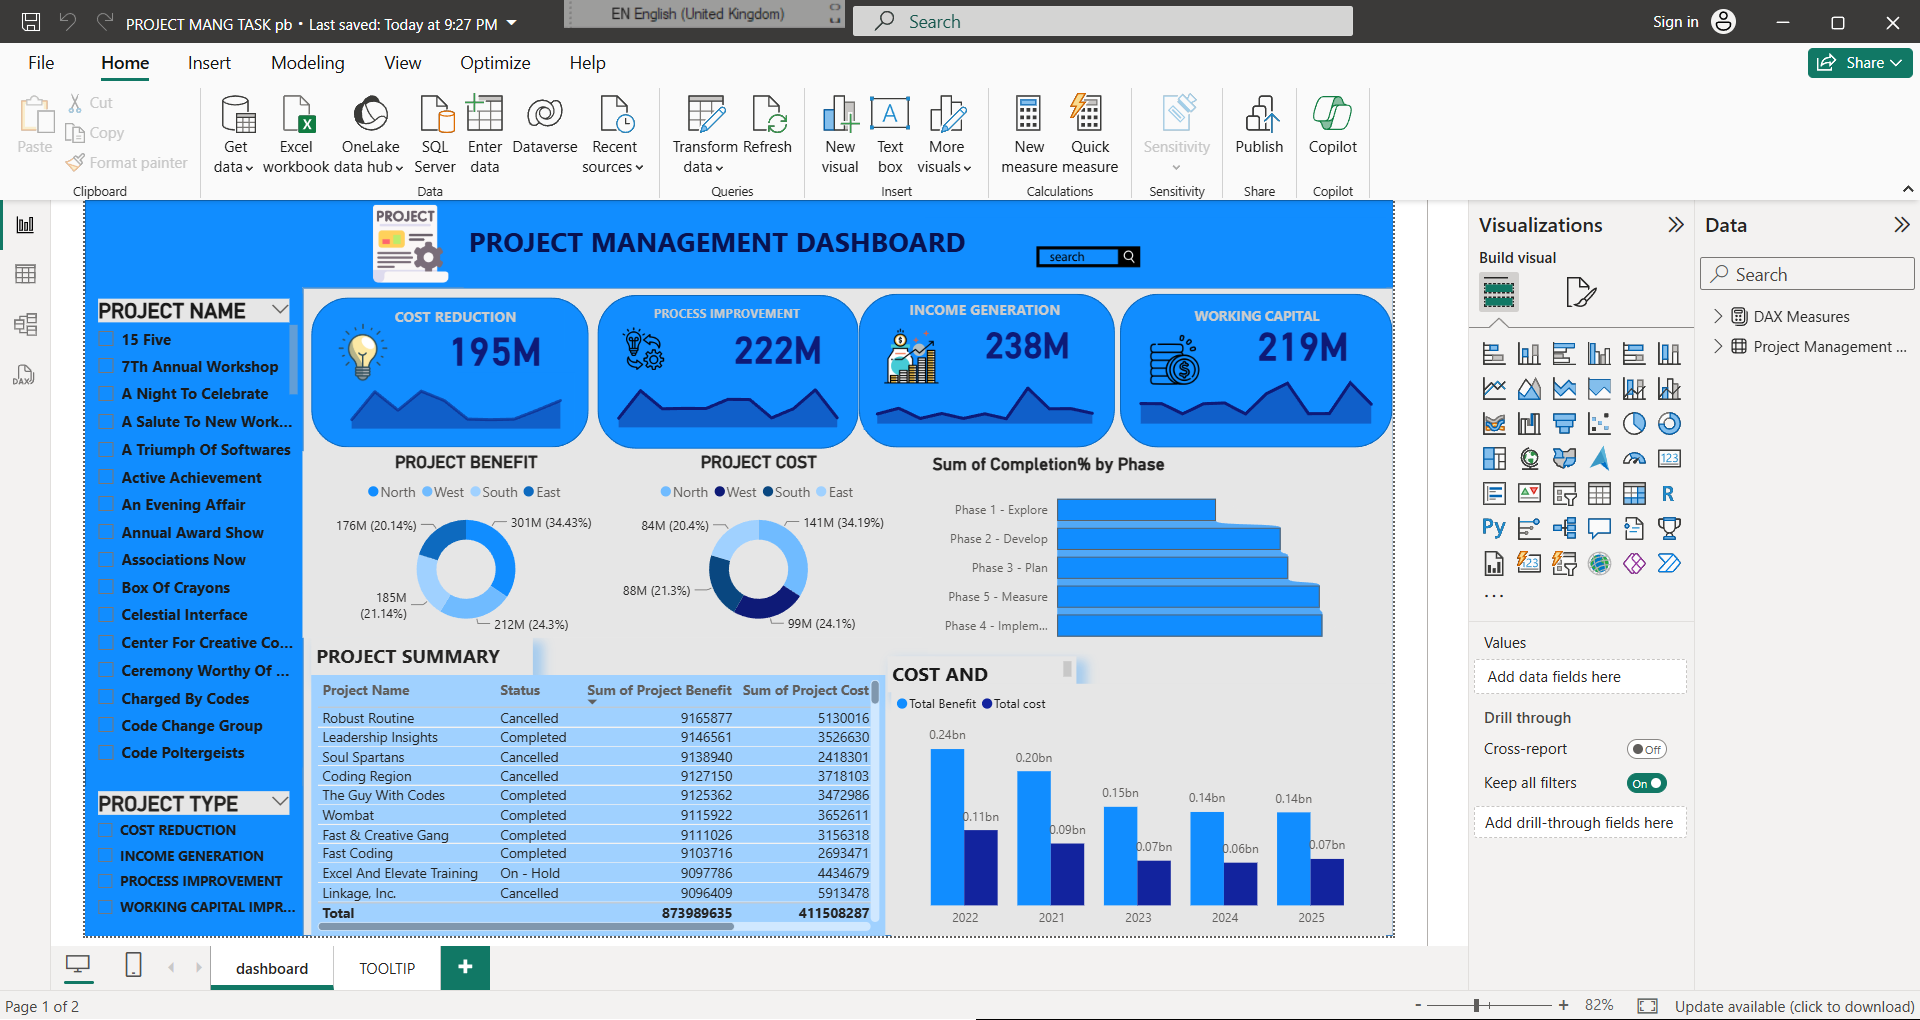

The dashboard page shown, as its layout file describes it:
{"tool":"powerbi","page":{"name":"dashboard","canvas":[1280,720],"ordinal":0},"visuals":[{"type":"shape","box":[0,0,1280.3,720.2],"z":0},{"type":"shape","box":[479.4,137,259.2,146.7],"z":1000},{"type":"textbox","box":[501.4,145.5,214,46.5],"z":2000},{"type":"card","fields":{"Values":["DAX Measures.Cost Reductions"]},"box":[556.4,145.5,182.2,94.2],"z":3000},{"type":"lineChart","fields":{"Category":["Project Management Dataset.Start Date.Variation.Date Hierarchy.Month"],"Y":["DAX Measures.Cost Reductions"]},"box":[492.8,215.2,232.3,61.1],"z":4000},{"type":"image","box":[492.8,174.9,55,62.4],"z":5000},{"type":"shape","box":[0,0,1280.3,720.2],"z":6000},{"type":"shape","box":[212.8,85.6,1067.5,634.7],"z":7000},{"type":"shape","box":[221.3,95.4,271.5,146.7],"z":8000},{"type":"textbox","box":[255.6,99,214,46.5],"z":9000},{"type":"card","fields":{"Values":["DAX Measures.Cost Reductions"]},"box":[303.3,108.8,195.7,94.2],"z":10000},{"type":"lineChart","fields":{"Category":["Project Management Dataset.Start Date.Variation.Date Hierarchy.Month"],"Y":["DAX Measures.Cost Reductions"]},"box":[247,168.8,232.3,61.1],"z":11000},{"type":"image","box":[233.6,113.7,77,70.9],"z":12000},{"type":"textbox","box":[370.5,17.1,902.5,68.5],"z":13000},{"type":"image","box":[272.7,0,91.7,85.6],"z":14000},{"type":"image","box":[810.7,0,342.4,111.3],"z":15000},{"type":"shape","box":[756.9,91.7,250.7,150.4],"z":16000},{"type":"card","fields":{"Values":["DAX Measures.Income Generation"]},"box":[845,113.7,154.1,73.4],"z":17000},{"type":"lineChart","fields":{"Category":["Project Management Dataset.Start Date.Variation.Date Hierarchy.Month"],"Y":["DAX Measures.Income Generation"]},"box":[761.8,160.2,237.2,64.8],"z":18000},{"type":"image","box":[754.5,121.1,107.6,63.6],"z":19000},{"type":"shape","box":[1012.5,91.7,266.6,150.4],"z":20000},{"type":"shape","box":[501.4,92.9,255.6,150.4],"z":21000},{"type":"textbox","box":[791.2,92.9,178.5,31.8],"z":22000},{"type":"textbox","box":[533.2,96.6,193.2,34.2],"z":23000},{"type":"image","box":[501.4,119.8,89.3,51.4],"z":24000},{"type":"card","fields":{"Values":["DAX Measures.Process Improvement"]},"box":[609,116.2,138.2,75.8],"z":25000},{"type":"lineChart","fields":{"Category":["Project Management Dataset.Start Date.Variation.Date Hierarchy.Month"],"Y":["DAX Measures.Process Improvement"]},"box":[508.7,167.5,240.9,61.1],"z":26000},{"type":"textbox","box":[1063.9,99,165.1,36.7],"z":27000},{"type":"card","fields":{"Values":["DAX Measures.Working Capital"]},"box":[1136,122.3,111.3,56.3],"z":28000},{"type":"lineChart","fields":{"Category":["Project Management Dataset.Start Date.Variation.Date Hierarchy.Month"],"Y":["DAX Measures.Working Capital"]},"box":[1019.8,160.2,251.9,64.8],"z":29000},{"type":"image","box":[1037,127.2,58.7,58.7],"z":30000},{"type":"slicer","fields":{"Values":["Project Management Dataset.Project Name"]},"box":[0,91.7,212.8,463.5],"z":31000},{"type":"slicer","fields":{"Values":["Project Management Dataset.Project Type"]},"box":[0,573.5,212.8,146.7],"z":32000},{"type":"textbox","box":[221.3,428,216.4,36.7],"z":33000},{"type":"tableEx","fields":{"Values":["Project Management Dataset.Project Name","Project Management Dataset.Status","Sum(Project Management Dataset.Project Benefit)","Sum(Project Management Dataset.Project Cost)","DAX Measures.Total cost","DAX Measures.Total Benefit"]},"box":[221.3,464.7,561.3,255.6],"z":34000},{"type":"textbox","box":[785.1,446.3,184.6,35.5],"z":35000},{"type":"clusteredColumnChart","fields":{"Y":["DAX Measures.Total Benefit","DAX Measures.Total cost"],"Category":["Project Management Dataset.Year"]},"box":[788.7,473.2,484.2,247],"z":36000},{"type":"barChart","fields":{"Category":["Project Management Dataset.Phase"],"Y":["Sum(Project Management Dataset.Completion%)"]},"box":[824.2,243.3,456.1,200.5],"z":37000},{"type":"donutChart","title":"PROJECT BENEFIT","fields":{"Category":["Project Management Dataset.Region"],"Y":["DAX Measures.Total Benefit"]},"box":[212.8,245.8,320.4,182.2],"z":38000},{"type":"donutChart","title":"PROJECT COST","fields":{"Category":["Project Management Dataset.Region"],"Y":["DAX Measures.Total cost"]},"box":[498.9,245.8,320.4,182.2],"z":39000}]}

Visuals, with their boxes on the page's 1280x720 design canvas (x1, y1, x2, y2). These are canvas units, not pixel positions in the 1920x1020 screenshot, which may show the page scaled, cropped or inside an application window:
shape: locate(0, 0, 1280, 720)
shape: locate(479, 137, 739, 284)
textbox: locate(501, 146, 715, 192)
card - DAX Measures.Cost Reductions: locate(556, 146, 739, 240)
lineChart - Project Management Dataset.Start Date.Variation.Date Hierarchy.Month x DAX Measures.Cost Reductions: locate(493, 215, 725, 276)
image: locate(493, 175, 548, 237)
shape: locate(0, 0, 1280, 720)
shape: locate(213, 86, 1280, 720)
shape: locate(221, 95, 493, 242)
textbox: locate(256, 99, 470, 146)
card - DAX Measures.Cost Reductions: locate(303, 109, 499, 203)
lineChart - Project Management Dataset.Start Date.Variation.Date Hierarchy.Month x DAX Measures.Cost Reductions: locate(247, 169, 479, 230)
image: locate(234, 114, 311, 185)
textbox: locate(370, 17, 1273, 86)
image: locate(273, 0, 364, 86)
image: locate(811, 0, 1153, 111)
shape: locate(757, 92, 1008, 242)
card - DAX Measures.Income Generation: locate(845, 114, 999, 187)
lineChart - Project Management Dataset.Start Date.Variation.Date Hierarchy.Month x DAX Measures.Income Generation: locate(762, 160, 999, 225)
image: locate(754, 121, 862, 185)
shape: locate(1012, 92, 1279, 242)
shape: locate(501, 93, 757, 243)
textbox: locate(791, 93, 970, 125)
textbox: locate(533, 97, 726, 131)
image: locate(501, 120, 591, 171)
card - DAX Measures.Process Improvement: locate(609, 116, 747, 192)
lineChart - Project Management Dataset.Start Date.Variation.Date Hierarchy.Month x DAX Measures.Process Improvement: locate(509, 168, 750, 229)
textbox: locate(1064, 99, 1229, 136)
card - DAX Measures.Working Capital: locate(1136, 122, 1247, 179)
lineChart - Project Management Dataset.Start Date.Variation.Date Hierarchy.Month x DAX Measures.Working Capital: locate(1020, 160, 1272, 225)
image: locate(1037, 127, 1096, 186)
slicer - Project Management Dataset.Project Name: locate(0, 92, 213, 555)
slicer - Project Management Dataset.Project Type: locate(0, 574, 213, 720)
textbox: locate(221, 428, 438, 465)
tableEx - Project Management Dataset.Project Name x Project Management Dataset.Status: locate(221, 465, 783, 720)
textbox: locate(785, 446, 970, 482)
clusteredColumnChart - DAX Measures.Total Benefit x DAX Measures.Total cost: locate(789, 473, 1273, 720)
barChart - Project Management Dataset.Phase x Sum(Project Management Dataset.Completion%): locate(824, 243, 1280, 444)
"PROJECT BENEFIT" donutChart: locate(213, 246, 533, 428)
"PROJECT COST" donutChart: locate(499, 246, 819, 428)
